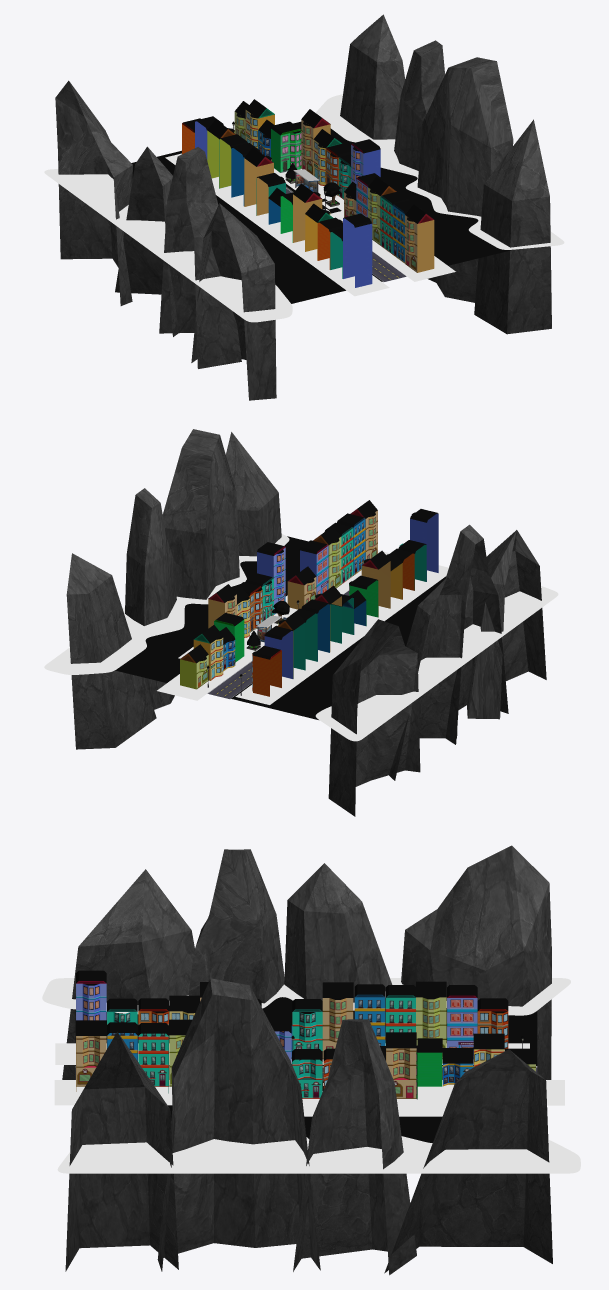
The model's file is citywinter_02.fbx.
3 views of the same model, one above another, from view 1: azimuth 30°, elevation 25°; view 2: azimuth 150°, elevation 25°; view 3: azimuth 270°, elevation 25° (orthographic). The views are drawn at different scales.
Parts seen in each view (by area): view 1: City_02; view 2: City_02; view 3: City_02.
Part boxes in pixels (box(x1,y1,x2,y2)): City_02: box(44, 14, 564, 400); City_02: box(44, 429, 558, 816); City_02: box(42, 845, 580, 1275).
Bounding box in the file's own units: 22617 × 13384 × 25170.
